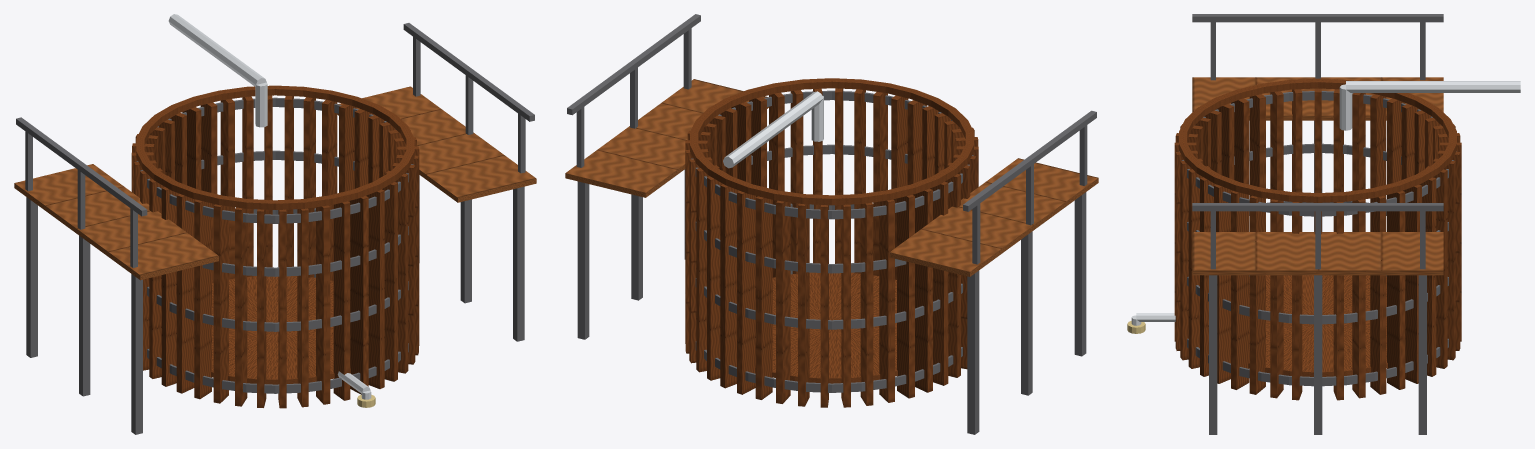
Rendered from distillery-and-bonded-warehouse-wash-back-wood-4796c6fd__38672.glb.
3 views of the same model, side by side, from view 1: azimuth 30°, elevation 25°; view 2: azimuth 150°, elevation 25°; view 3: azimuth 270°, elevation 25° (orthographic). The views are drawn at different scales.
Parts seen in each view (by area): view 1: wash-back-wood-oak, wash-back-wood-iron, wash-back-wood-timber, wash-back-wood-steel; view 2: wash-back-wood-oak, wash-back-wood-iron, wash-back-wood-timber, wash-back-wood-steel; view 3: wash-back-wood-oak, wash-back-wood-iron, wash-back-wood-timber, wash-back-wood-steel.
Boxes of the visible parts, x1,y1,x2,y2 form: wash-back-wood-oak: (131,85,419,408); wash-back-wood-iron: (16,23,534,434); wash-back-wood-timber: (14,86,536,280); wash-back-wood-steel: (168,14,371,399); wash-back-wood-oak: (685,78,978,407); wash-back-wood-iron: (567,14,1096,434); wash-back-wood-timber: (565,79,1098,276); wash-back-wood-steel: (723,91,823,168); wash-back-wood-oak: (1174,78,1461,400); wash-back-wood-iron: (1179,14,1456,434); wash-back-wood-timber: (1192,77,1443,275); wash-back-wood-steel: (1131,81,1520,325).
Bounding box in the file's own units: 6.54 × 4.09 × 5.63.
5 materials, 2 textured.
